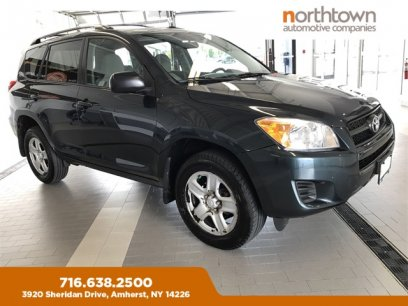Toyota RAV-4: (7, 27, 396, 251)
